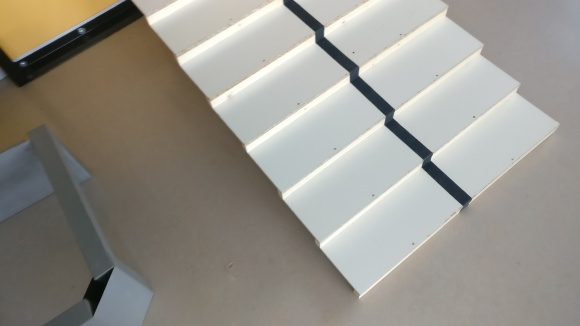stairs: (128, 1, 563, 301)
